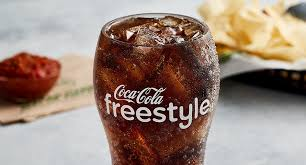coke: (76, 3, 248, 165)
